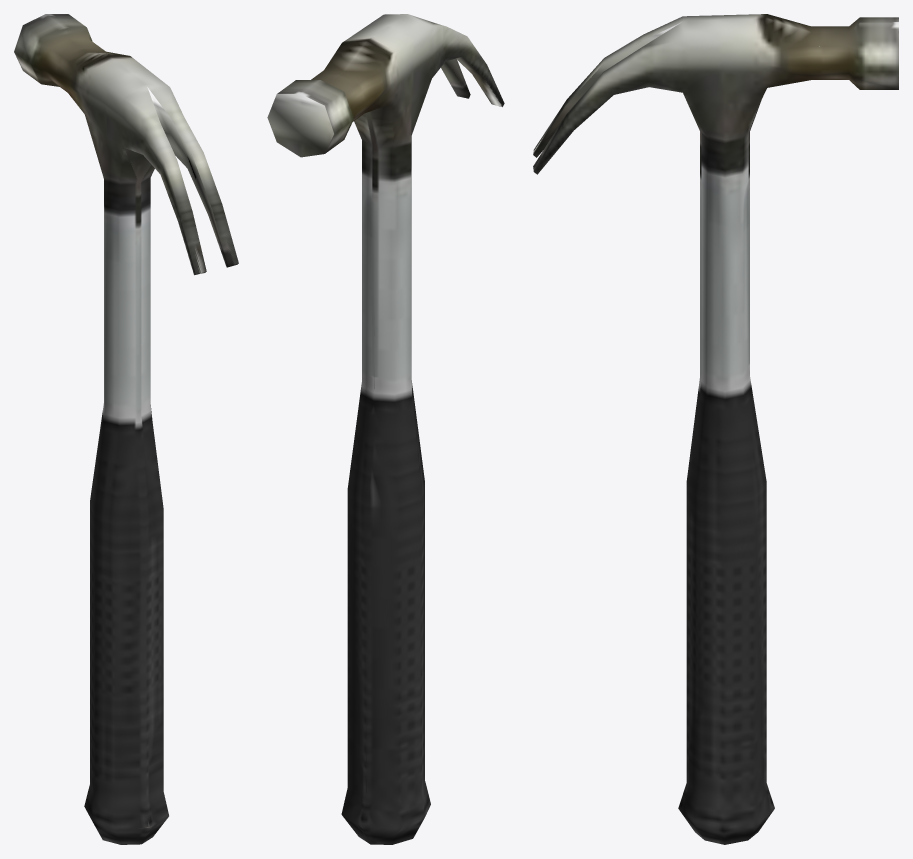
File: hamer.obj
3 views of the same model, side by side, from view 1: azimuth 30°, elevation 25°; view 2: azimuth 150°, elevation 25°; view 3: azimuth 270°, elevation 25° (orthographic). The views are drawn at different scales.
Parts seen in each view (by area): view 1: hamer_Cube.002; view 2: hamer_Cube.002; view 3: hamer_Cube.002.
Boxes of the visible parts, x1=… form: hamer_Cube.002: x1=14, y1=14, x2=238, y2=844; hamer_Cube.002: x1=267, y1=14, x2=504, y2=844; hamer_Cube.002: x1=533, y1=14, x2=898, y2=844.
Size of the model in its own units: 0.9445 by 9.68 by 3.95.
